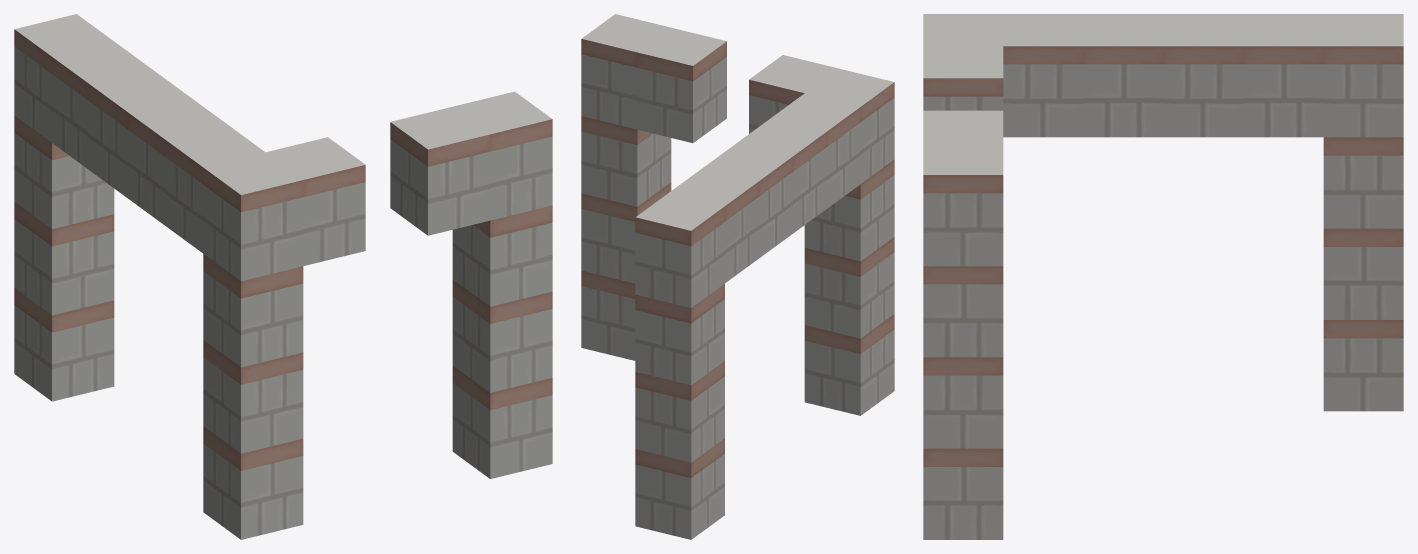
Rendered from building_l_centralgate.gltf.
The picture shows the model from 3 angles, left to right: view 1: azimuth 30°, elevation 25°; view 2: azimuth 150°, elevation 25°; view 3: azimuth 270°, elevation 25°; orthographic projection. The views are drawn at different scales.
Visible parts, largest first — view 1: building_l_centralgate; view 2: building_l_centralgate; view 3: building_l_centralgate.
Part boxes in pixels (left/top/right/bottom): building_l_centralgate: left=14, top=14, right=552, bottom=539; building_l_centralgate: left=581, top=14, right=894, bottom=539; building_l_centralgate: left=923, top=14, right=1403, bottom=539.
Size of the model in its own units: 0.5714 by 0.6044 by 0.7205.
Materials: 1 (1 with a texture image).
